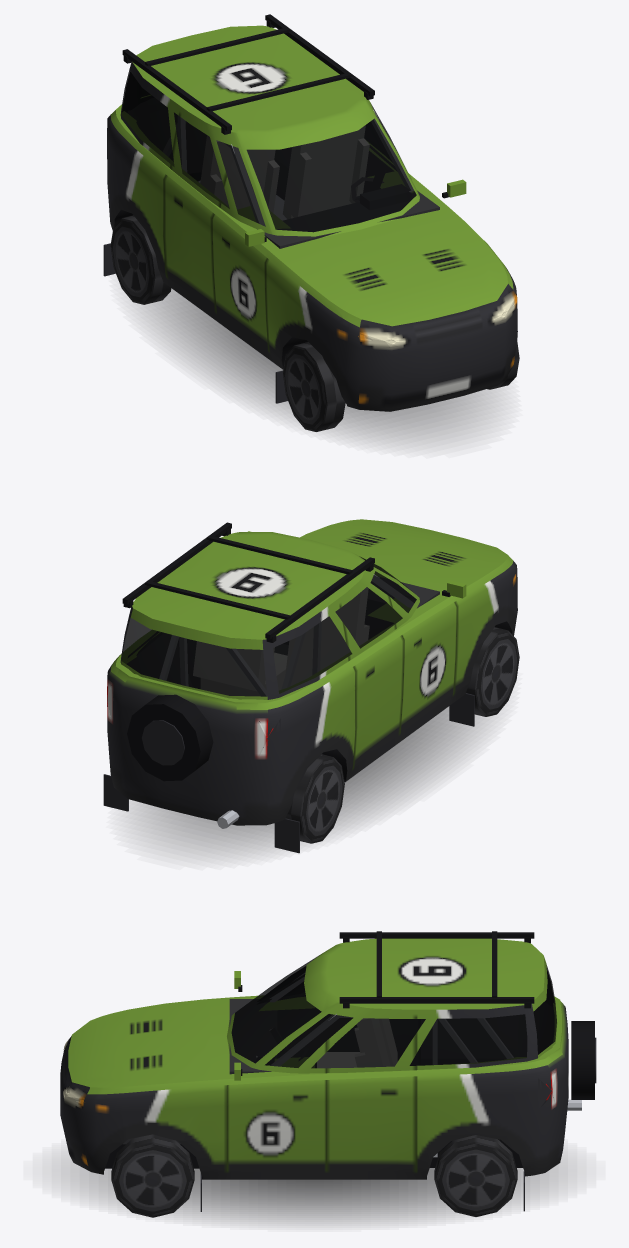
The model's file is pamonha.glb.
3 views of the same model, one above another, from view 1: azimuth 30°, elevation 25°; view 2: azimuth 150°, elevation 25°; view 3: azimuth 270°, elevation 25° (orthographic). The views are drawn at different scales.
Parts seen in each view (by area): view 1: Carroceria, Interior, Capo_malha, Sombra, Porta_TD_malha, Porta_D_malha, Roda_DD, Roda_TD, Farol; view 2: Carroceria, Tampa_malha, Sombra, Interior, Porta_TD_malha, Capo_malha, Porta_D_malha, Roda_TD, Roda_DD; view 3: Carroceria, Interior, Porta_TE_malha, Sombra, Porta_E_malha, Capo_malha, Roda_DE, Roda_TE, Tampa_malha, Porta_D_malha.
Boxes of the visible parts, x1,y1,x2,y2 form: Carroceria: (103,14,517,411); Interior: (128,98,439,248); Capo_malha: (286,218,513,327); Sombra: (138,289,498,444); Porta_TD_malha: (164,107,241,311); Porta_D_malha: (211,147,272,351); Roda_DD: (283,342,345,431); Roda_TD: (110,215,171,304); Farol: (358,295,517,347); Carroceria: (103,522,517,853); Tampa_malha: (114,608,267,805); Sombra: (130,707,489,856); Interior: (127,574,439,695); Porta_TD_malha: (339,569,403,768); Capo_malha: (304,519,513,587); Porta_D_malha: (374,569,466,733); Roda_TD: (286,754,344,843); Roda_DD: (466,627,519,716); Carroceria: (60,931,581,1211); Interior: (123,973,553,1157); Porta_TE_malha: (327,1003,415,1171); Sombra: (61,1158,567,1223); Porta_E_malha: (227,1012,326,1171); Capo_malha: (73,1001,211,1094); Roda_DE: (111,1134,194,1217); Roda_TE: (434,1135,517,1216); Tampa_malha: (532,956,596,1148); Porta_D_malha: (234,966,305,1001).
Bounding box in the file's own units: 2.26 × 1.75 × 4.54.
Materials: 13 (5 with a texture image).
